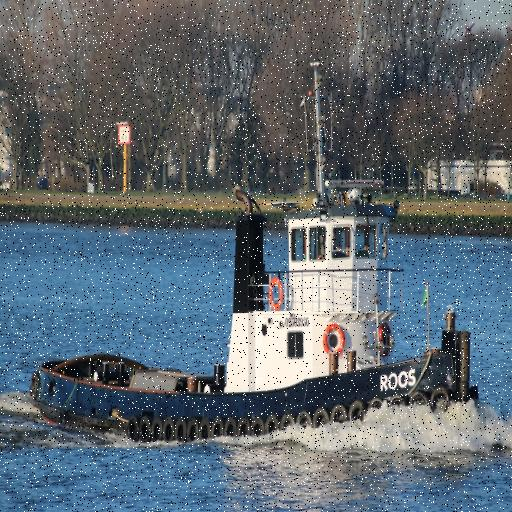tugboat: (26, 178, 482, 464)
